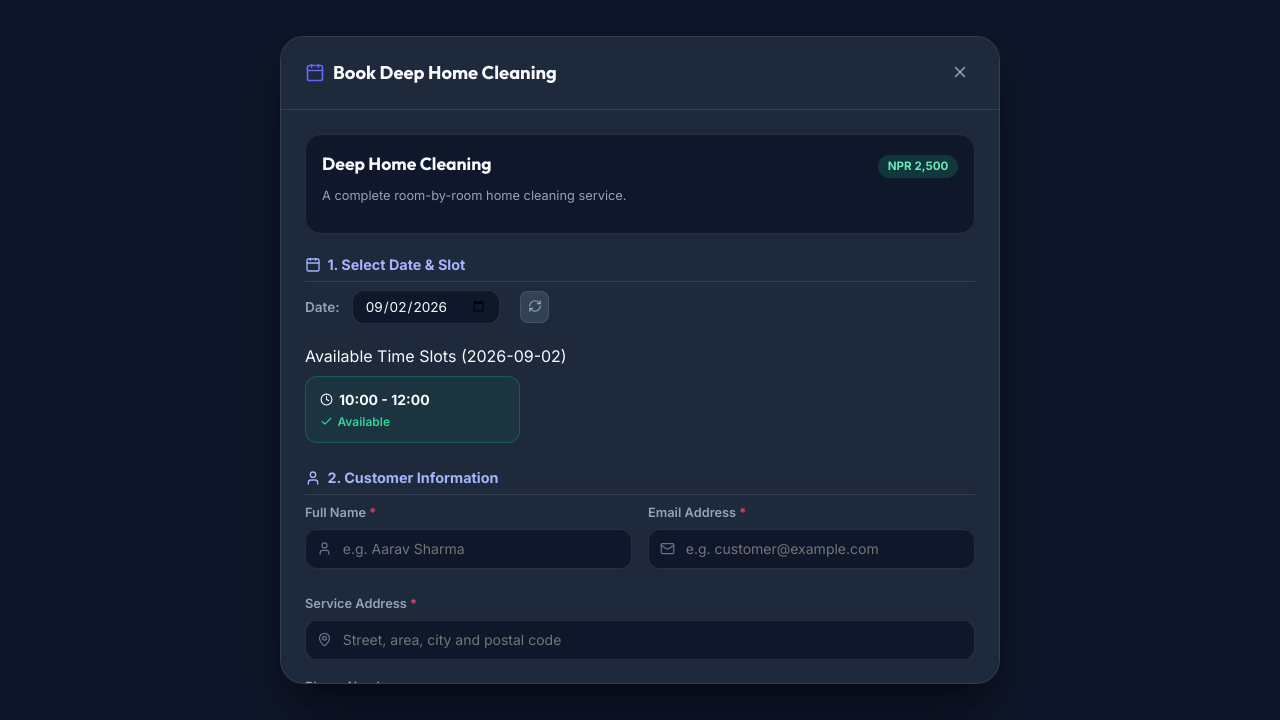
Booking validation › blocks invalid input and displays field-level validation messages
This screenshot has width=1280, height=720.
Click the button "10:00 - 12:00 Available" at (413, 410), box top-left (305, 376), bottom-right (520, 443)
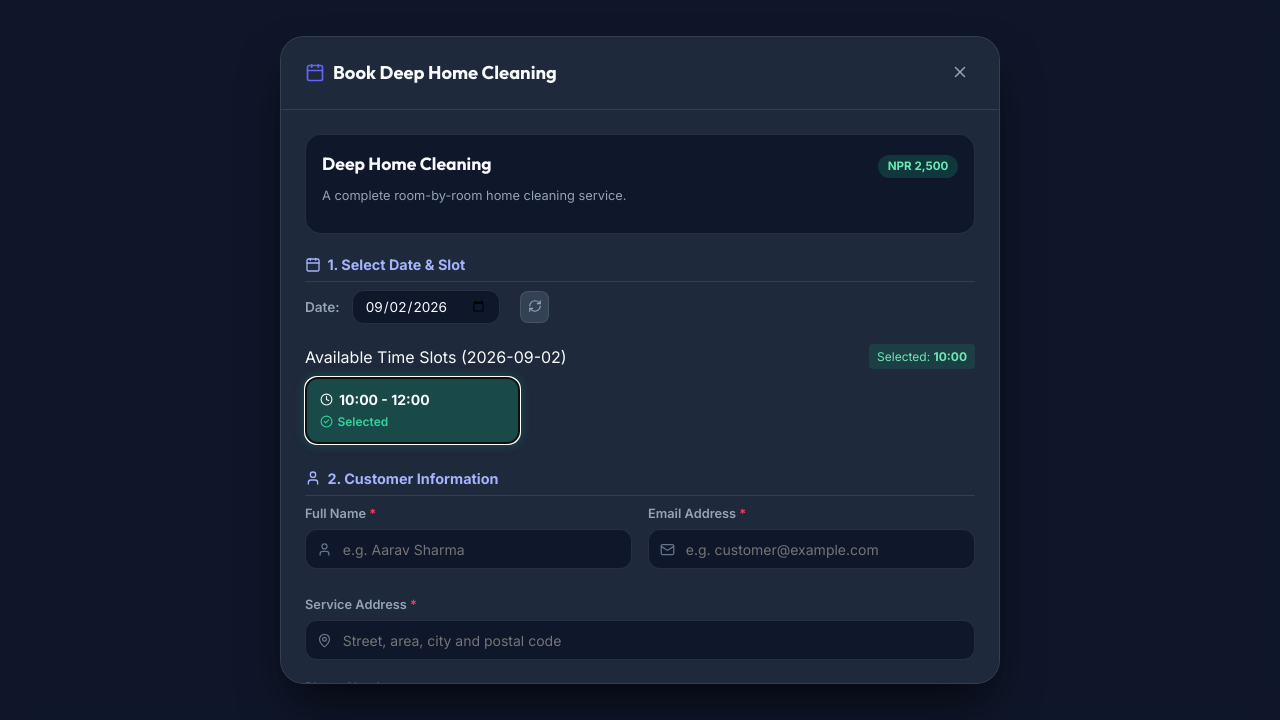
Clear the field with placeholder "e.g. Aarav Sharma" at (468, 549), box top-left (305, 529), bottom-right (632, 569)
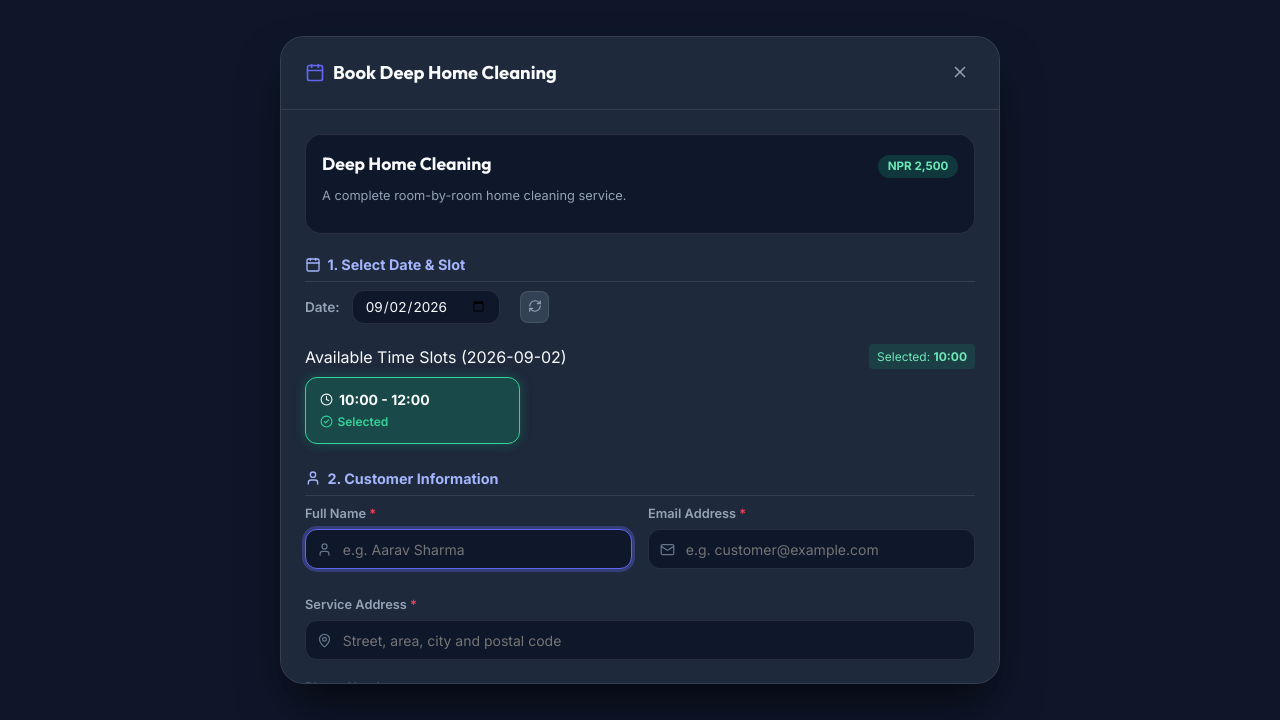
Clear the field with placeholder "e.g. customer@example.com" at (812, 549), box top-left (648, 529), bottom-right (975, 569)
(page scrolled)
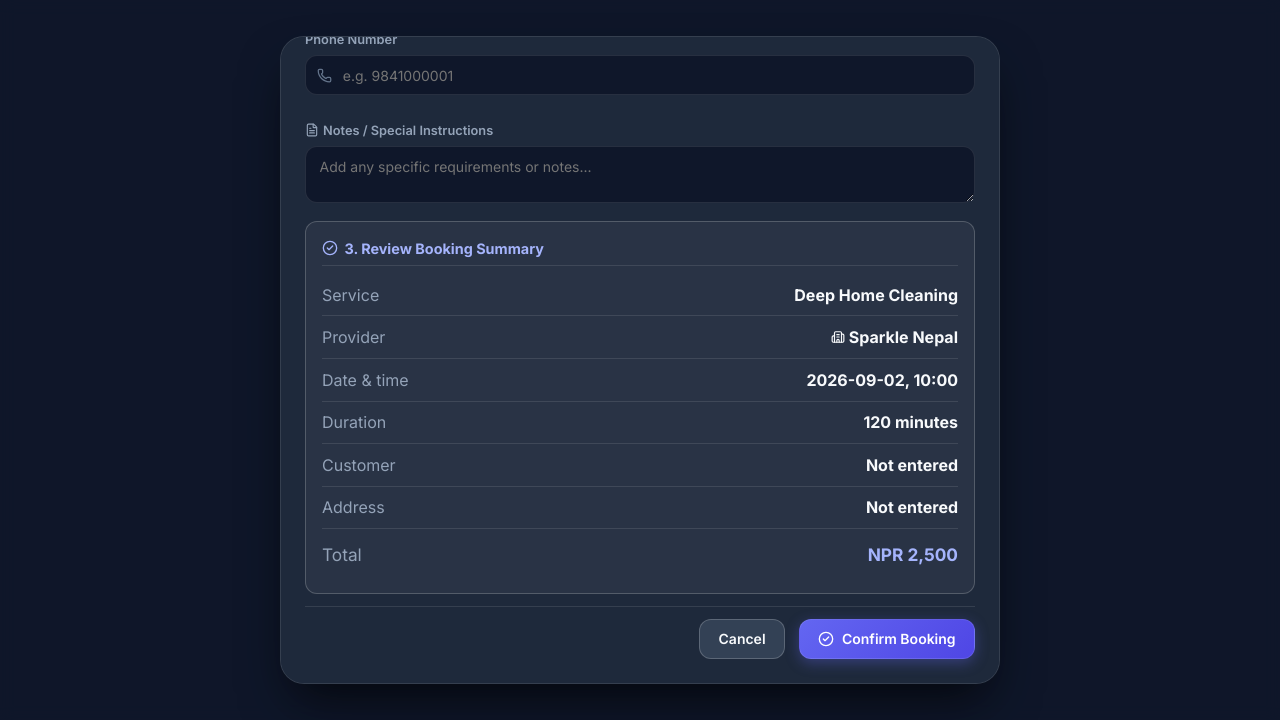
Click the button "Confirm Booking" at (887, 639), box top-left (799, 619), bottom-right (975, 659)
(page scrolled)
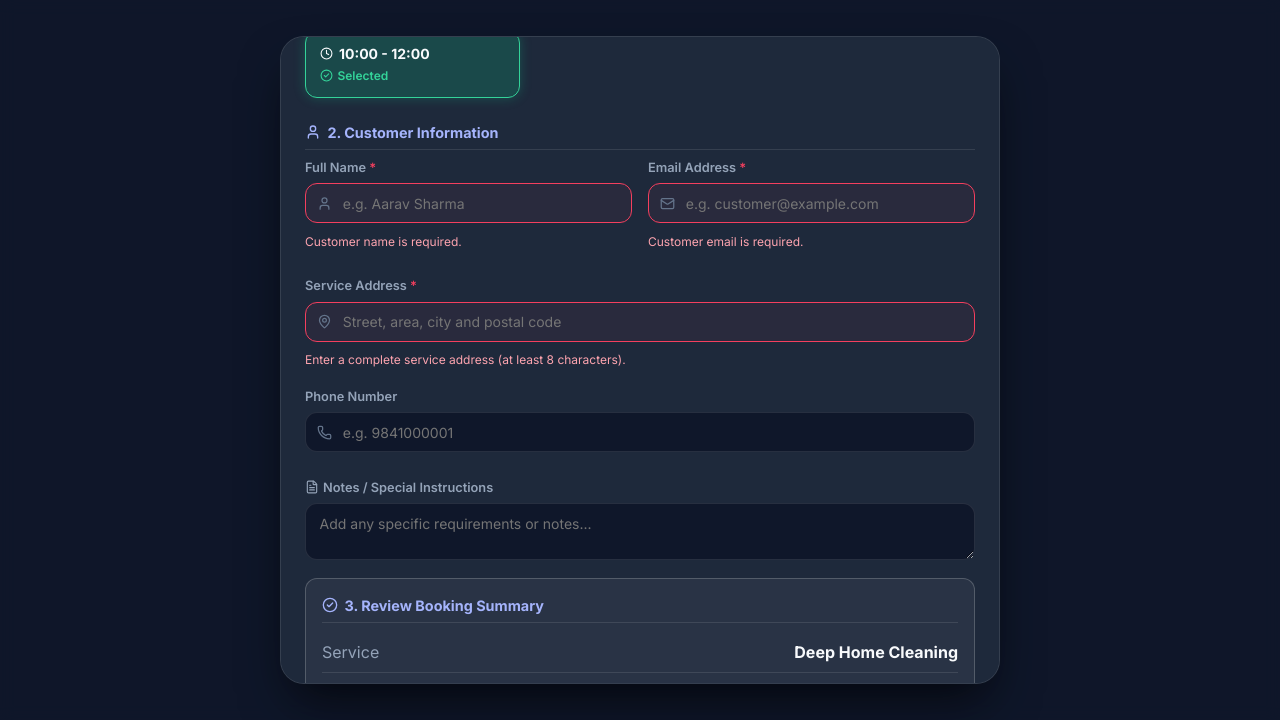
expect the text "Customer name is required." is shown: met, box top-left (305, 234), bottom-right (462, 249)
expect the text "Customer email is required." is shown: met, box top-left (648, 234), bottom-right (803, 249)
expect the text "Enter a complete service address (at least 8 characters)." is shown: met, box top-left (305, 352), bottom-right (626, 367)
